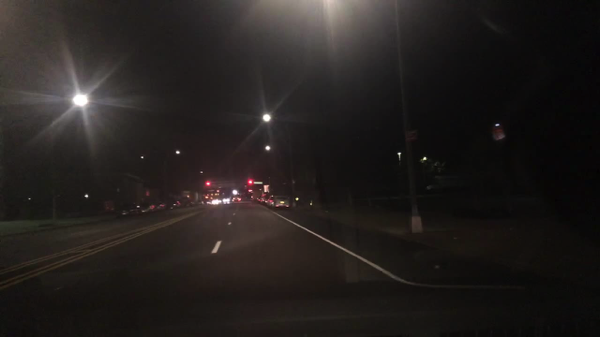car: (115, 202, 141, 220), (272, 195, 289, 212), (139, 201, 155, 214), (153, 200, 167, 212), (167, 200, 183, 209), (182, 199, 193, 208), (193, 199, 206, 206), (260, 194, 268, 205), (268, 195, 274, 208), (212, 197, 221, 205), (232, 195, 242, 202), (223, 195, 229, 203)
traffic light: (204, 180, 212, 187), (246, 177, 252, 185)
traffic sign: (490, 125, 504, 142), (402, 131, 418, 142), (253, 181, 264, 184)
